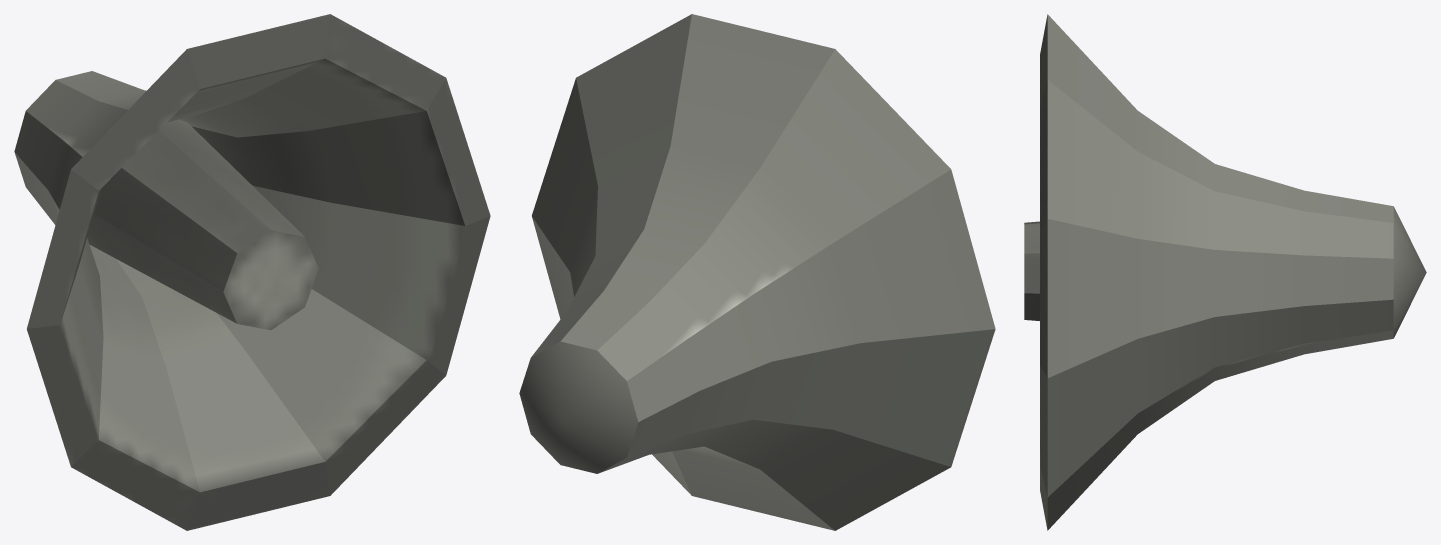
Rendered from Speaker.fbx.
3 views of the same model, side by side, from view 1: azimuth 30°, elevation 25°; view 2: azimuth 150°, elevation 25°; view 3: azimuth 270°, elevation 25° (orthographic). The views are drawn at different scales.
Parts seen in each view (by area): view 1: pCylinder49; view 2: pCylinder49; view 3: pCylinder49.
Part boxes in pixels (x1,y1,x2,y2): pCylinder49: (14, 14, 490, 530); pCylinder49: (519, 14, 995, 530); pCylinder49: (1024, 14, 1426, 530).
Size of the model in its own units: 244 by 242 by 195.
